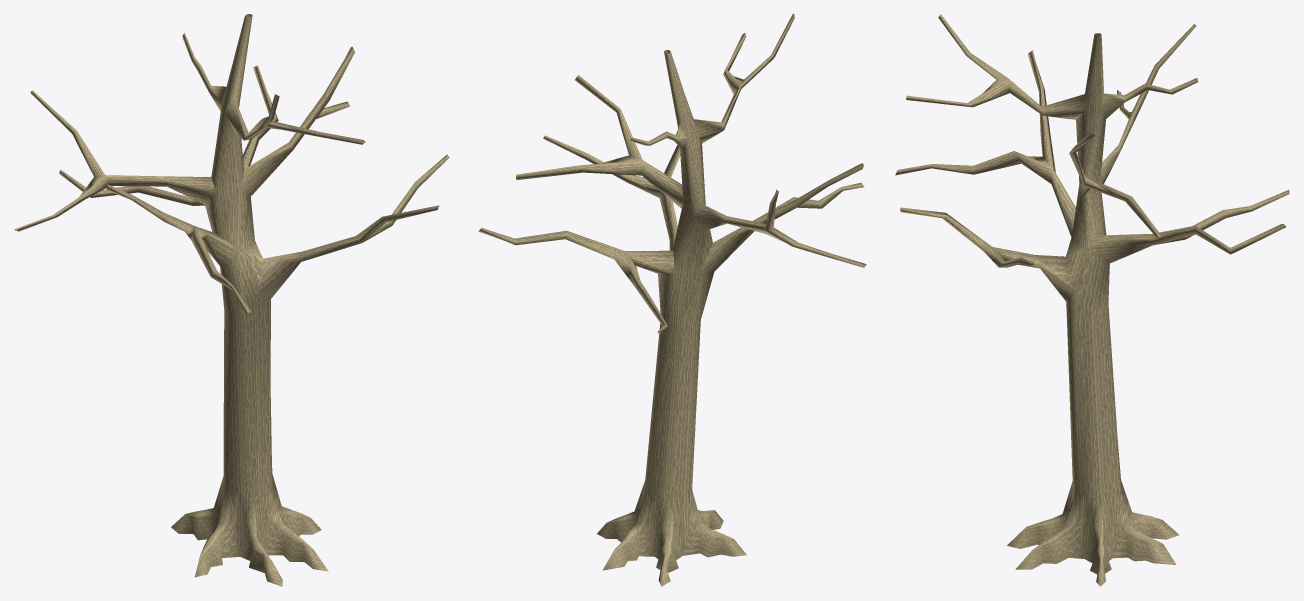
The model's file is INST_HTOWN_APPLETREE_LOD2.fbx.
The picture shows the model from 3 angles, left to right: view 1: azimuth 30°, elevation 25°; view 2: azimuth 150°, elevation 25°; view 3: azimuth 270°, elevation 25°; orthographic projection. The views are drawn at different scales.
Visible parts, largest first — view 1: INST_HTOWN_APPLETREE_LOD2; view 2: INST_HTOWN_APPLETREE_LOD2; view 3: INST_HTOWN_APPLETREE_LOD2.
Boxes of the visible parts, <box> form: INST_HTOWN_APPLETREE_LOD2: <box>14,14,449,586</box>; INST_HTOWN_APPLETREE_LOD2: <box>478,14,866,586</box>; INST_HTOWN_APPLETREE_LOD2: <box>895,14,1289,586</box>.
Size of the model in its own units: 33631 by 44043 by 30408.
5 materials, 5 textured.
